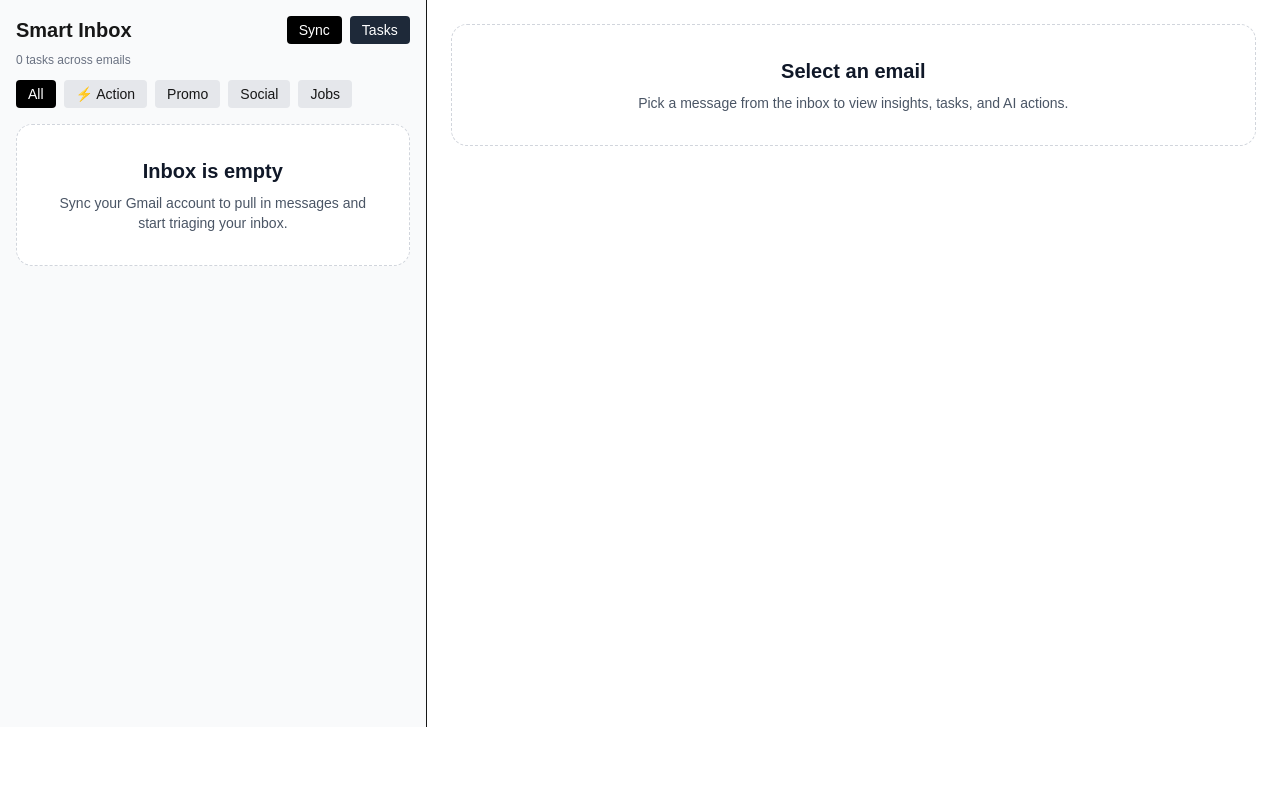
Test: DashboardPage › shows sync success feedback after a successful refresh
The width and height of the screenshot is (1280, 800).
Click the button "Sync". click: click(314, 30)
box: [287,16,342,44]
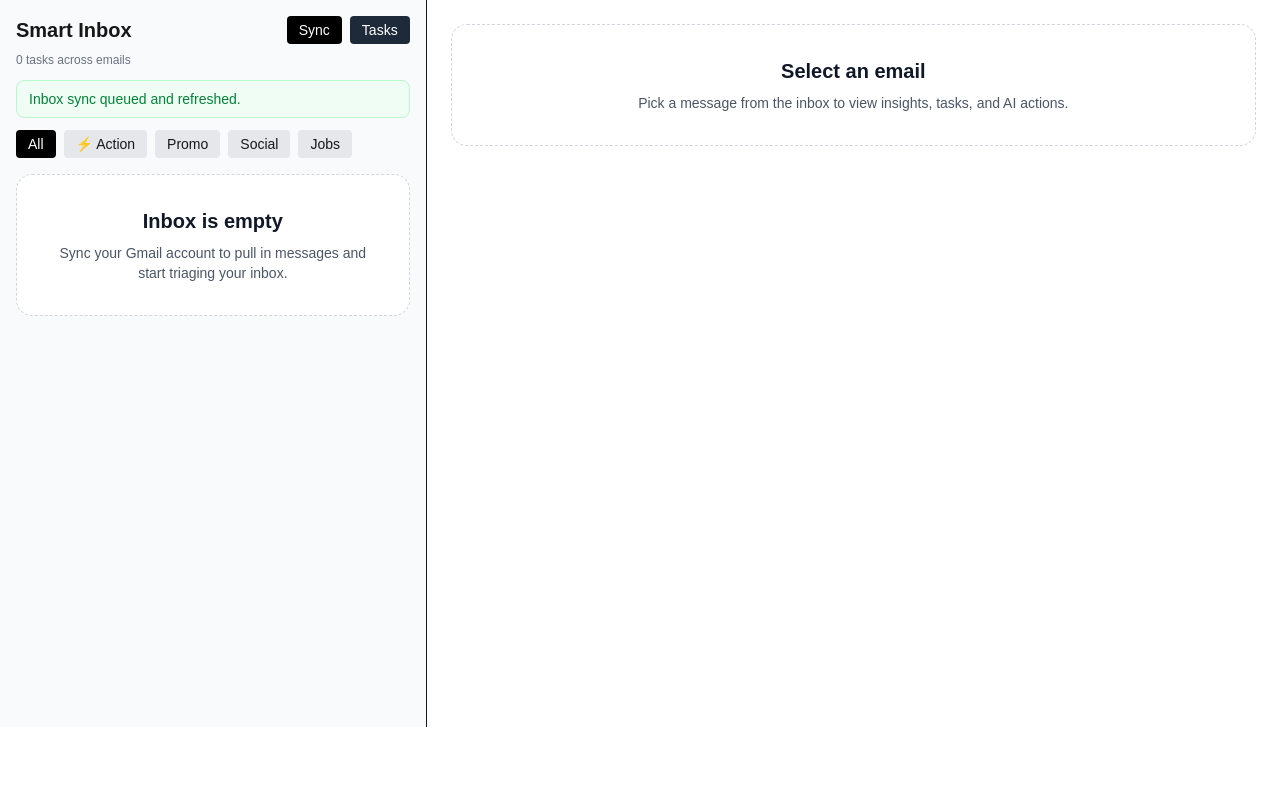
Check: the text "Inbox sync queued and refreshed." is shown, box [16,80,410,118]
